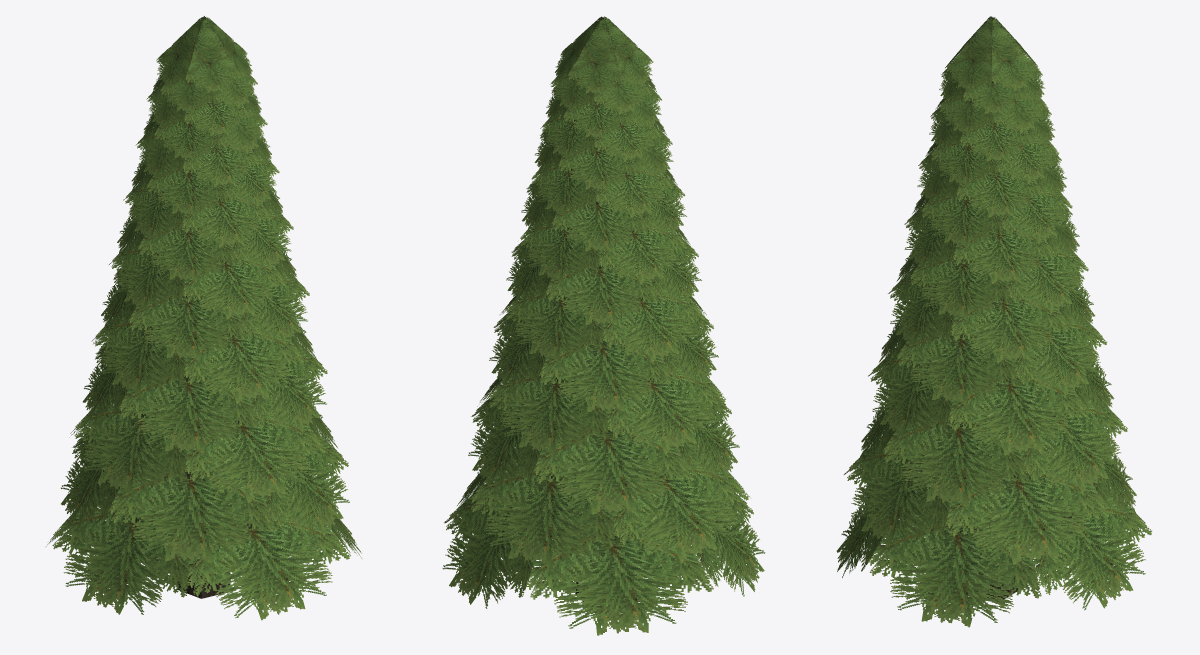
File: pine.glb
3 renders of one model, left to right at view 1: azimuth 30°, elevation 25°; view 2: azimuth 150°, elevation 25°; view 3: azimuth 270°, elevation 25°, orthographic.
Visible parts, largest first — view 1: Pine; view 2: Pine; view 3: Pine.
Part boxes in pixels (x1,y1,x2,y2): Pine: (46, 16, 361, 620); Pine: (442, 16, 765, 635); Pine: (836, 16, 1151, 627).
Bounding box in the file's own units: 7.54 × 12.85 × 7.55.
Materials: 2 (2 with a texture image).
